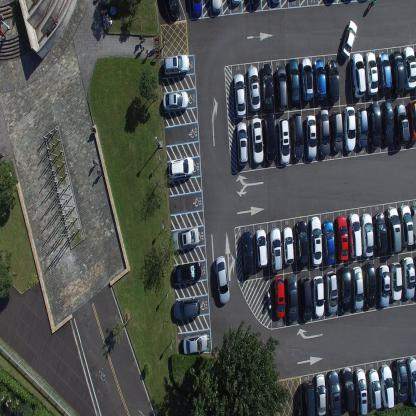car: (385, 206, 402, 254), (215, 254, 230, 305), (170, 225, 199, 251), (172, 260, 202, 285), (393, 103, 410, 147), (340, 19, 358, 60), (295, 219, 309, 269), (351, 52, 366, 98), (398, 204, 414, 247), (376, 52, 392, 95), (285, 274, 299, 323), (290, 112, 304, 161), (335, 214, 349, 262), (348, 211, 362, 259), (363, 261, 377, 309), (247, 64, 261, 112), (367, 101, 381, 149), (360, 211, 374, 258), (287, 58, 301, 105), (168, 155, 194, 180), (163, 52, 189, 77), (173, 296, 200, 320), (367, 367, 382, 410), (390, 50, 405, 93), (269, 226, 283, 272), (322, 219, 336, 265), (299, 275, 313, 321), (327, 370, 341, 416), (402, 45, 416, 91), (341, 367, 355, 412), (300, 56, 314, 101), (364, 51, 378, 96), (310, 215, 322, 267), (355, 367, 368, 415), (317, 109, 330, 157), (381, 98, 394, 146), (324, 270, 338, 314), (380, 364, 394, 408), (394, 358, 408, 402), (326, 58, 340, 102), (264, 112, 276, 163), (261, 63, 274, 110), (374, 212, 388, 255), (304, 114, 317, 160), (343, 106, 356, 152), (275, 66, 288, 112), (182, 332, 209, 354), (162, 90, 189, 112), (251, 116, 263, 165), (278, 117, 290, 166), (241, 231, 254, 276), (377, 263, 390, 308), (402, 256, 415, 300), (233, 72, 246, 116), (339, 265, 351, 312), (352, 265, 364, 310), (236, 121, 248, 166), (355, 107, 368, 148), (312, 274, 324, 318), (255, 228, 268, 268), (273, 276, 285, 319), (331, 110, 343, 153), (406, 356, 416, 407), (314, 60, 326, 102), (390, 261, 402, 301), (315, 372, 326, 415), (302, 380, 315, 415), (283, 225, 294, 265), (406, 100, 416, 144), (166, 0, 181, 20), (191, 0, 203, 19), (211, 0, 223, 15), (412, 202, 416, 244), (250, 0, 260, 10), (231, 0, 240, 8), (270, 0, 281, 5)
